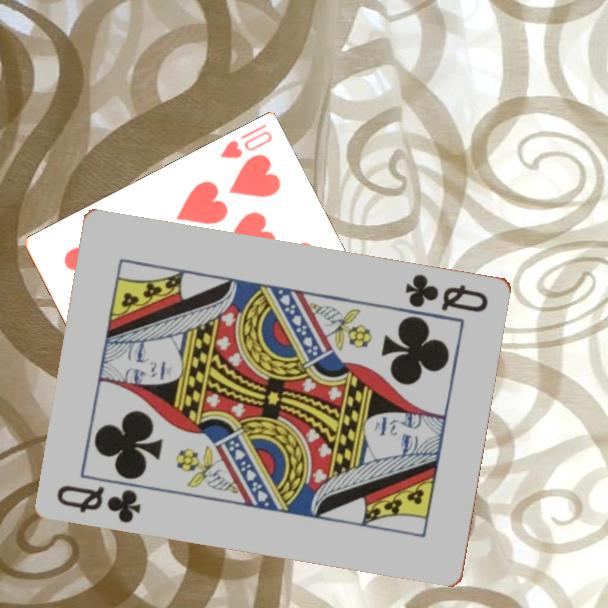c12: (54, 481, 145, 526), (402, 270, 492, 315)
h10: (216, 121, 275, 162)
